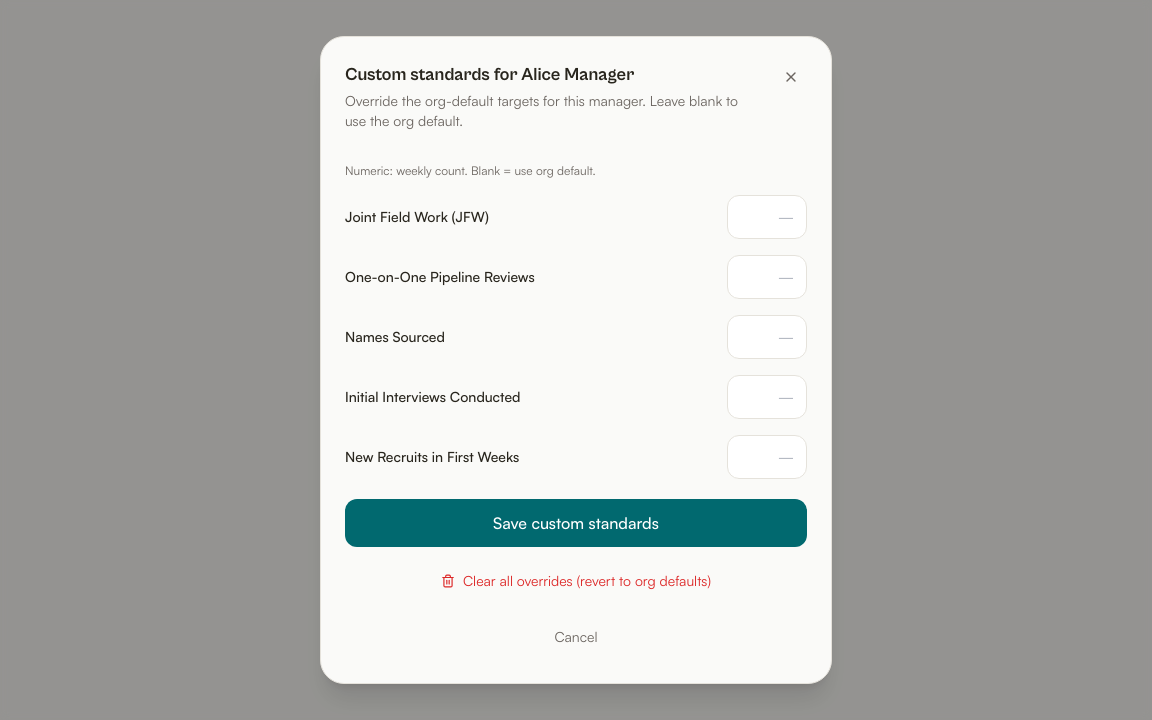
Test: ManagerOverrideModal — save › shows permission-denied error message on PERMISSION_DENIED
Click the button "Save custom standards": (576, 523) left=345, top=499, right=807, bottom=547
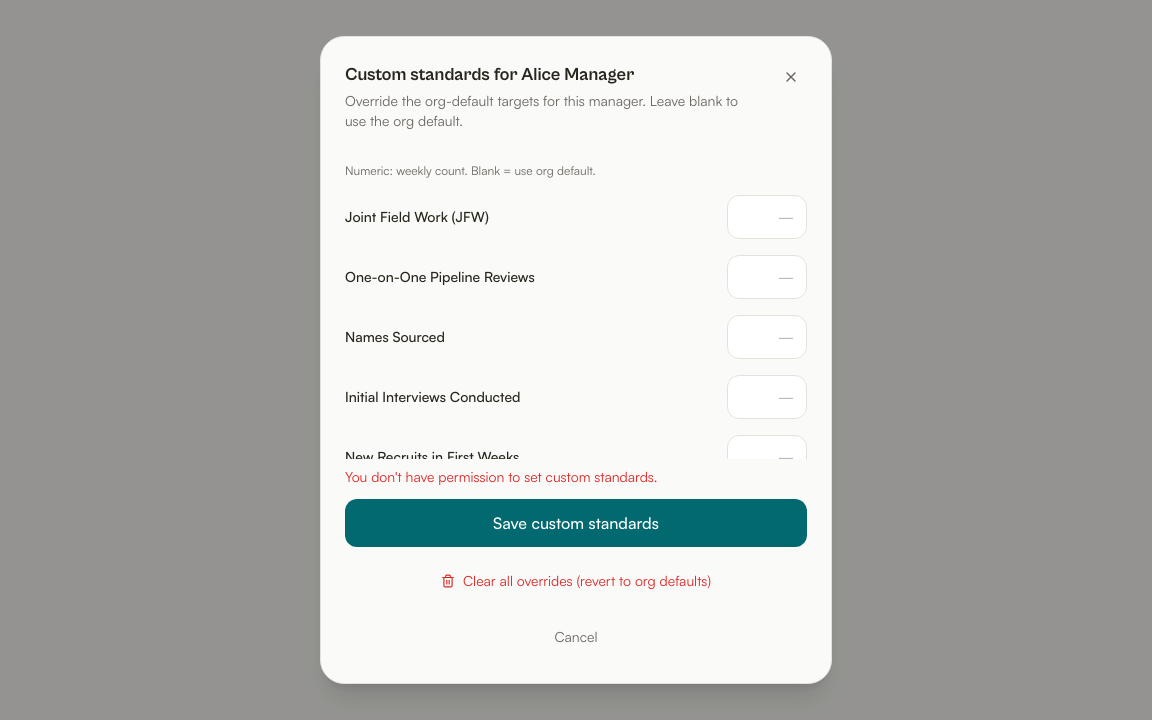
Check: the message shows "don't have permission", box left=345, top=468, right=658, bottom=485
